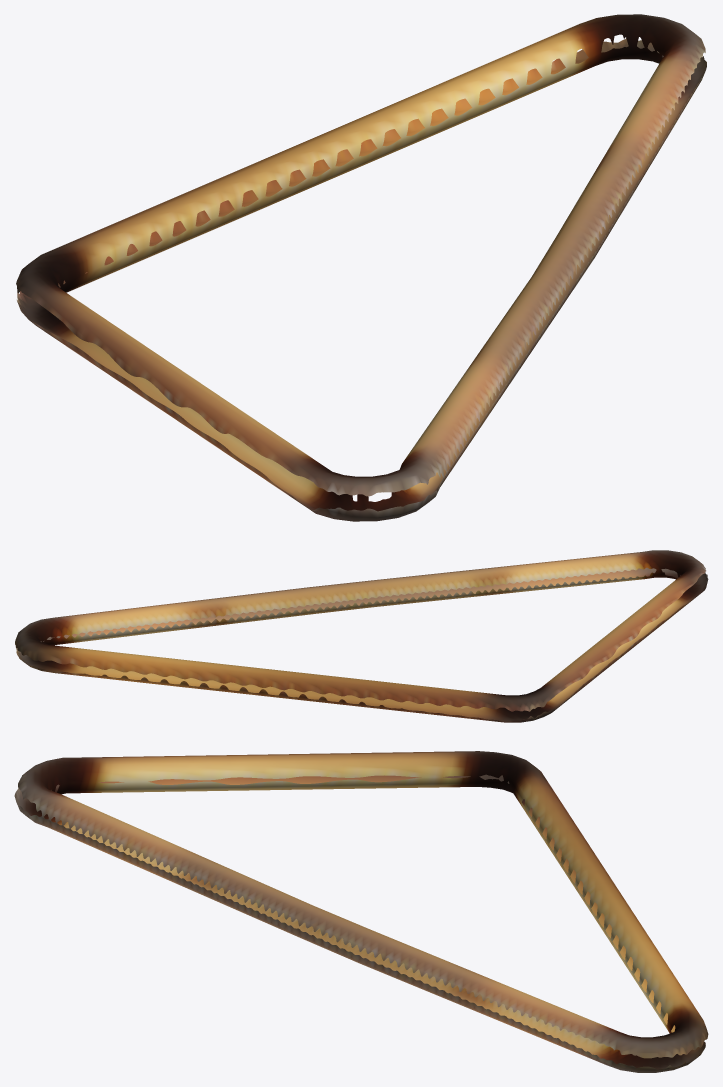
File: rsling3.fbx
The picture shows the model from 3 angles, top to bottom: view 1: azimuth 30°, elevation 25°; view 2: azimuth 150°, elevation 25°; view 3: azimuth 270°, elevation 25°; orthographic projection. The views are drawn at different scales.
Parts seen in each view (by area): view 1: rsling3; view 2: rsling3; view 3: rsling3.
Part boxes in pixels (bbox=[...]): rsling3: bbox=[16, 14, 706, 521]; rsling3: bbox=[15, 550, 708, 722]; rsling3: bbox=[14, 751, 708, 1072].
Size of the model in its own units: 10.03 by 0.5054 by 9.78.
1 material, 1 textured.
